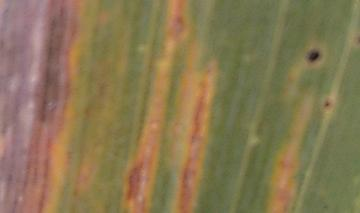tarspot: (306, 48, 320, 63), (324, 100, 331, 108)
